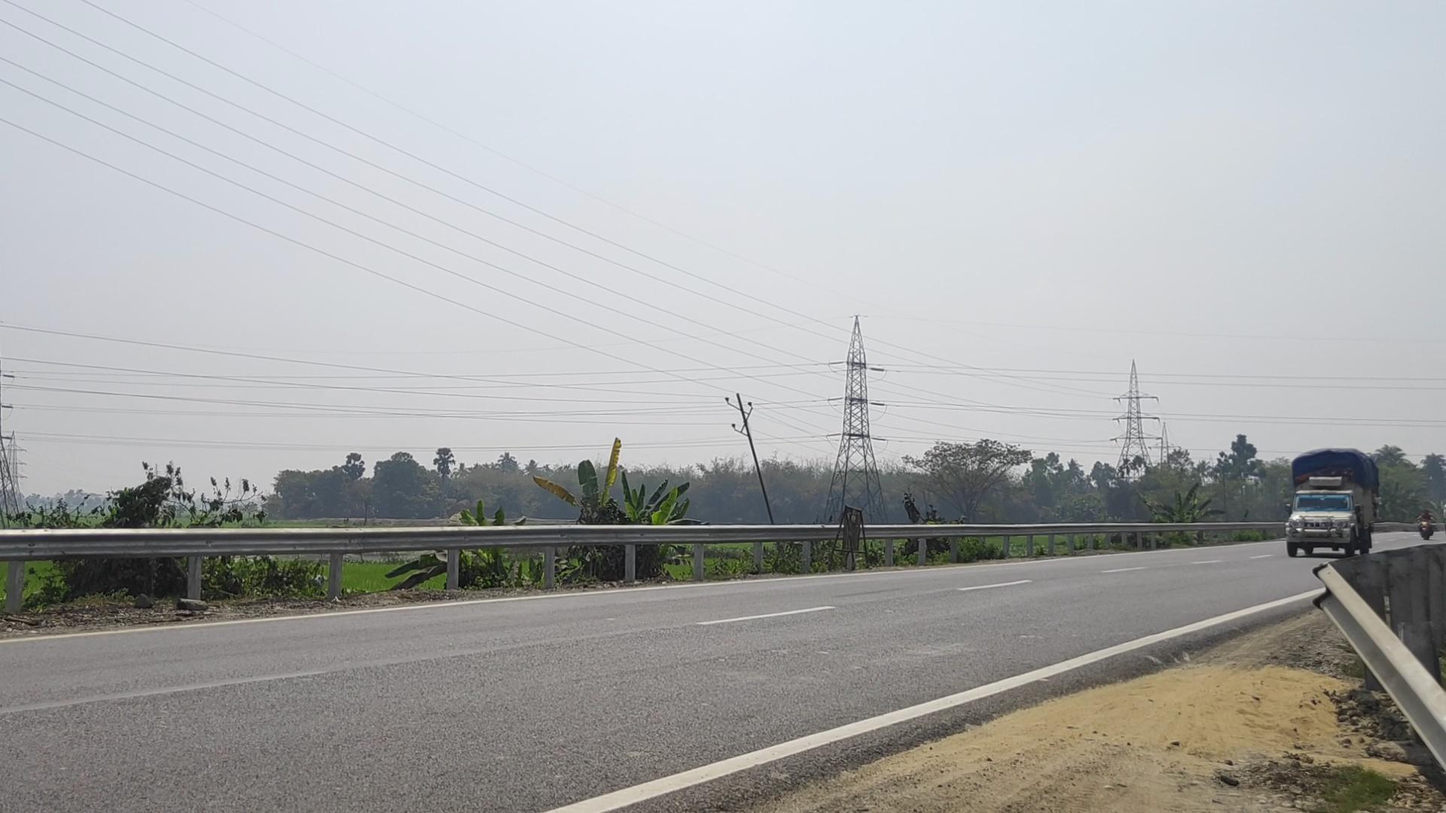bike: (1416, 509, 1436, 541)
van: (1285, 448, 1378, 557)
